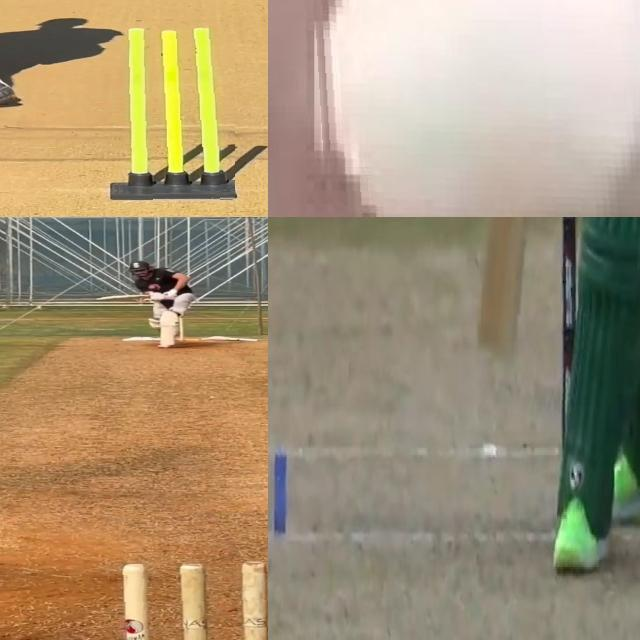Cricket ball: (306, 0, 640, 217), (148, 284, 161, 291)
Stumps: (112, 26, 235, 201), (118, 561, 268, 640)
